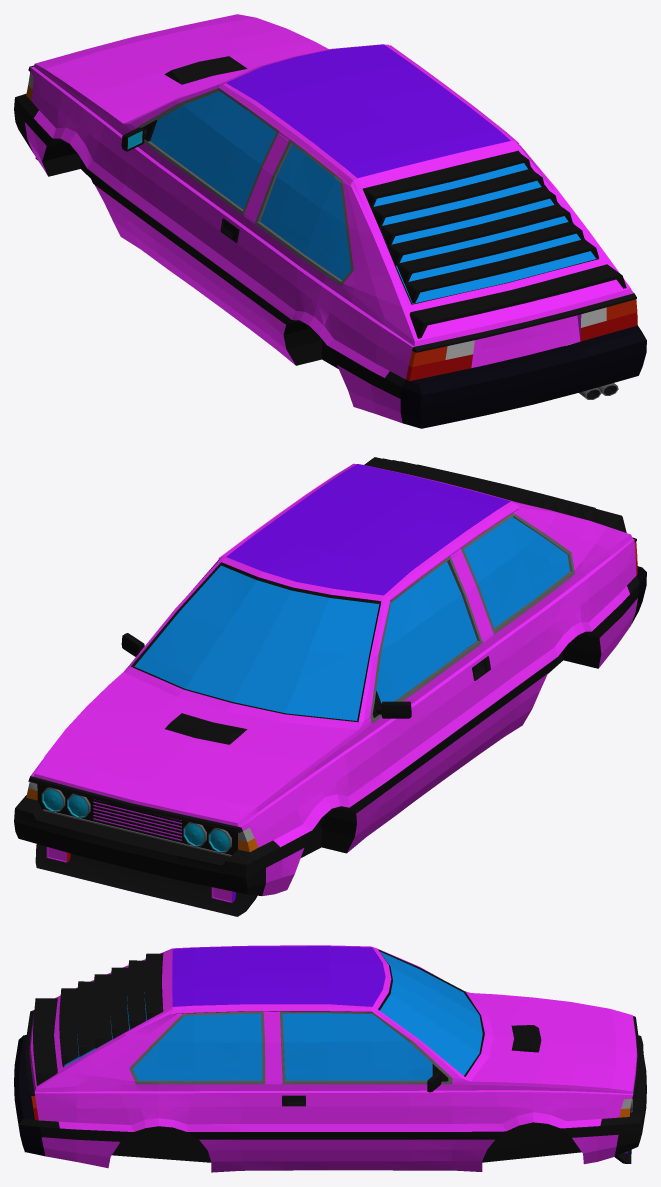
File: bolones.fbx
3 views of the same model, one above another, from view 1: azimuth 30°, elevation 25°; view 2: azimuth 150°, elevation 25°; view 3: azimuth 270°, elevation 25° (orthographic). The views are drawn at different scales.
Parts seen in each view (by area): view 1: Plane005; view 2: Plane005; view 3: Plane005.
Part boxes in pixels (left/top/right/bottom): Plane005: left=14, top=14, right=646, bottom=428; Plane005: left=14, top=457, right=646, bottom=916; Plane005: left=14, top=945, right=646, bottom=1172.
Size of the model in its own units: 3.1 by 2.07 by 7.64.
